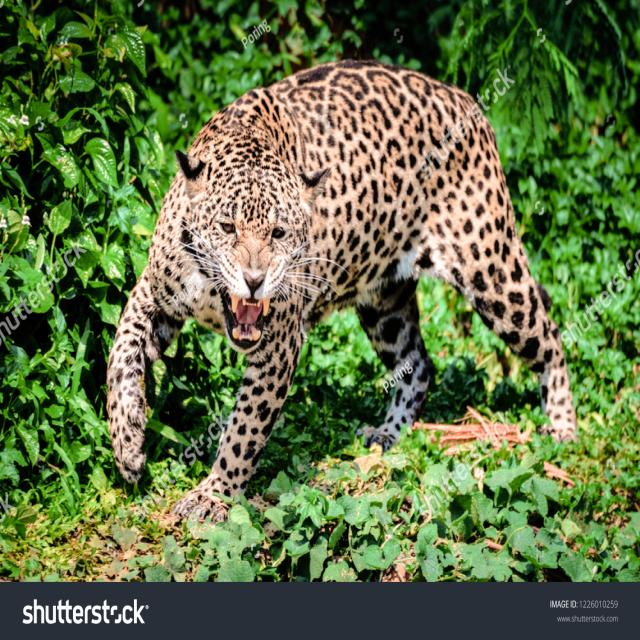Jaguar: (108, 61, 580, 522)
